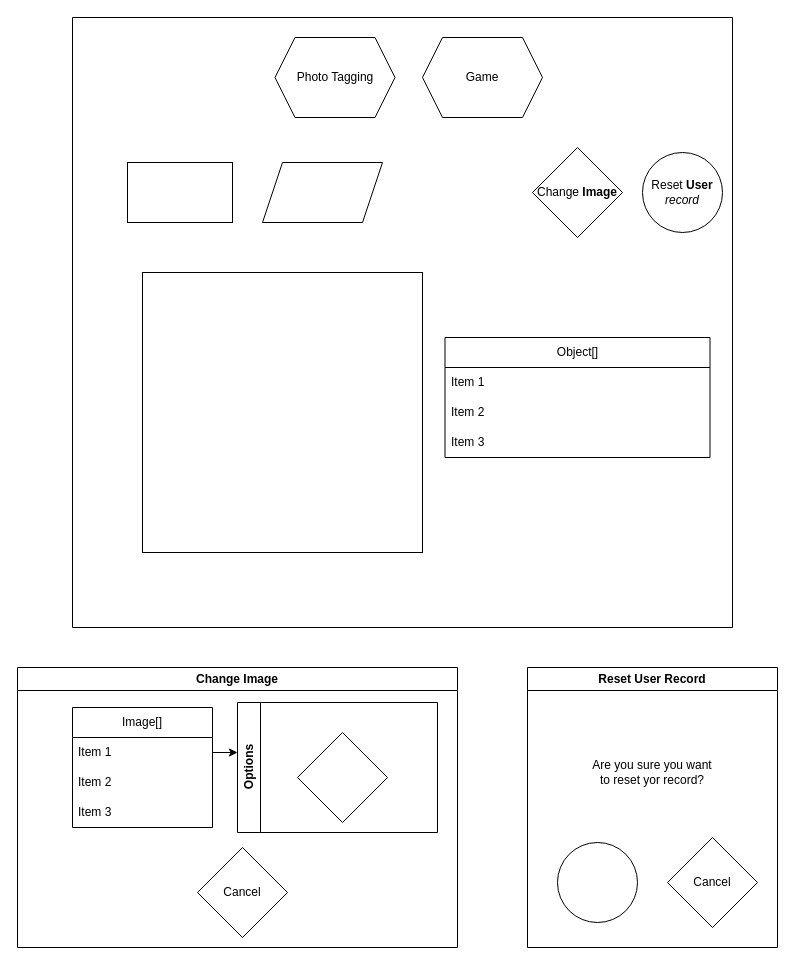
Image size: 795x965. Some labels were removed from this diagram. The centre of each missing label's shape, as x and y in pixels:
"Image" goes at (282,412).
"Reset" goes at (597,882).
"Select" goes at (342,777).
"Time" goes at (322,192).
"User" goes at (179,192).
